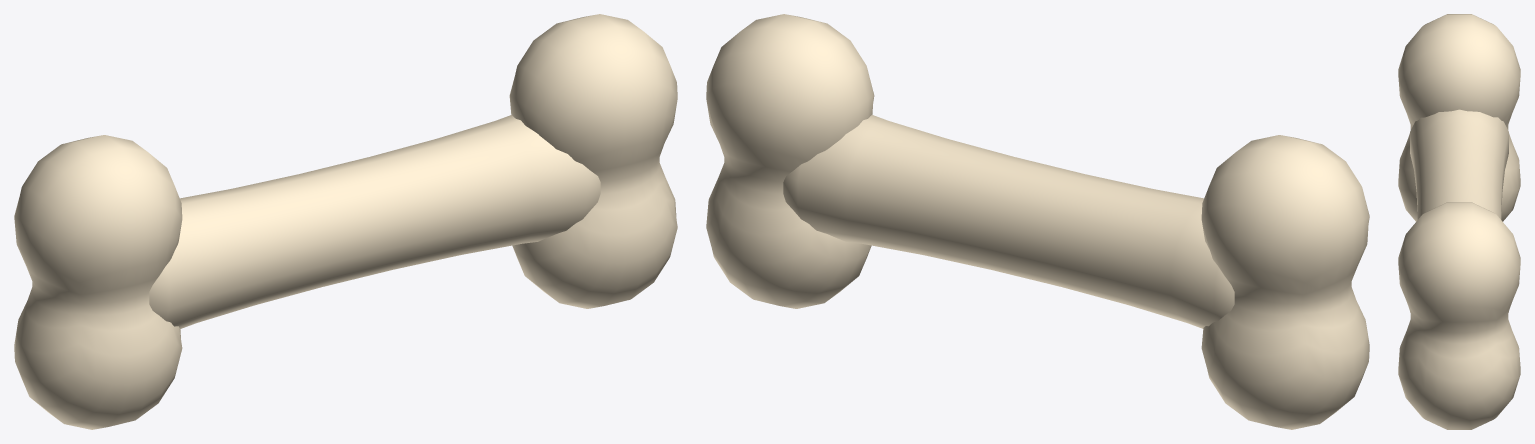
Rendered from bone.glb.
3 views of the same model, side by side, from view 1: azimuth 30°, elevation 25°; view 2: azimuth 150°, elevation 25°; view 3: azimuth 270°, elevation 25° (orthographic). The views are drawn at different scales.
Parts seen in each view (by area): view 1: bone; view 2: bone; view 3: bone.
Part boxes in pixels (left/top/right/bottom): bone: left=14, top=14, right=677, bottom=429; bone: left=706, top=14, right=1369, bottom=429; bone: left=1398, top=14, right=1520, bottom=429.
Size of the model in its own units: 0.2189 by 0.0898 by 0.0464.
